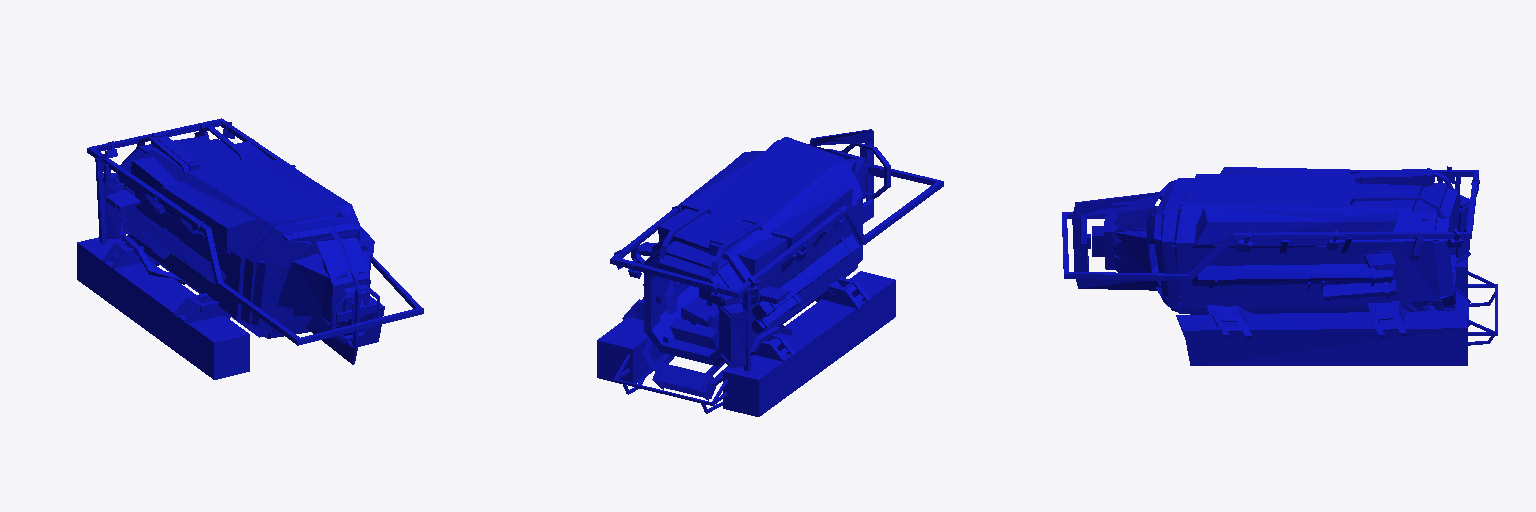
File: submarin.obj
3 renders of one model, left to right at view 1: azimuth 30°, elevation 25°; view 2: azimuth 150°, elevation 25°; view 3: azimuth 270°, elevation 25°, orthographic.
Parts seen in each view (by area): view 1: model_0; view 2: model_0; view 3: model_0.
Boxes of the visible parts, box(x1,y1,x2,y2) form: model_0: box(77, 118, 423, 379); model_0: box(597, 129, 943, 416); model_0: box(1062, 166, 1497, 365).
Bounding box in the file's own units: 4.57 × 3.68 × 9.93.